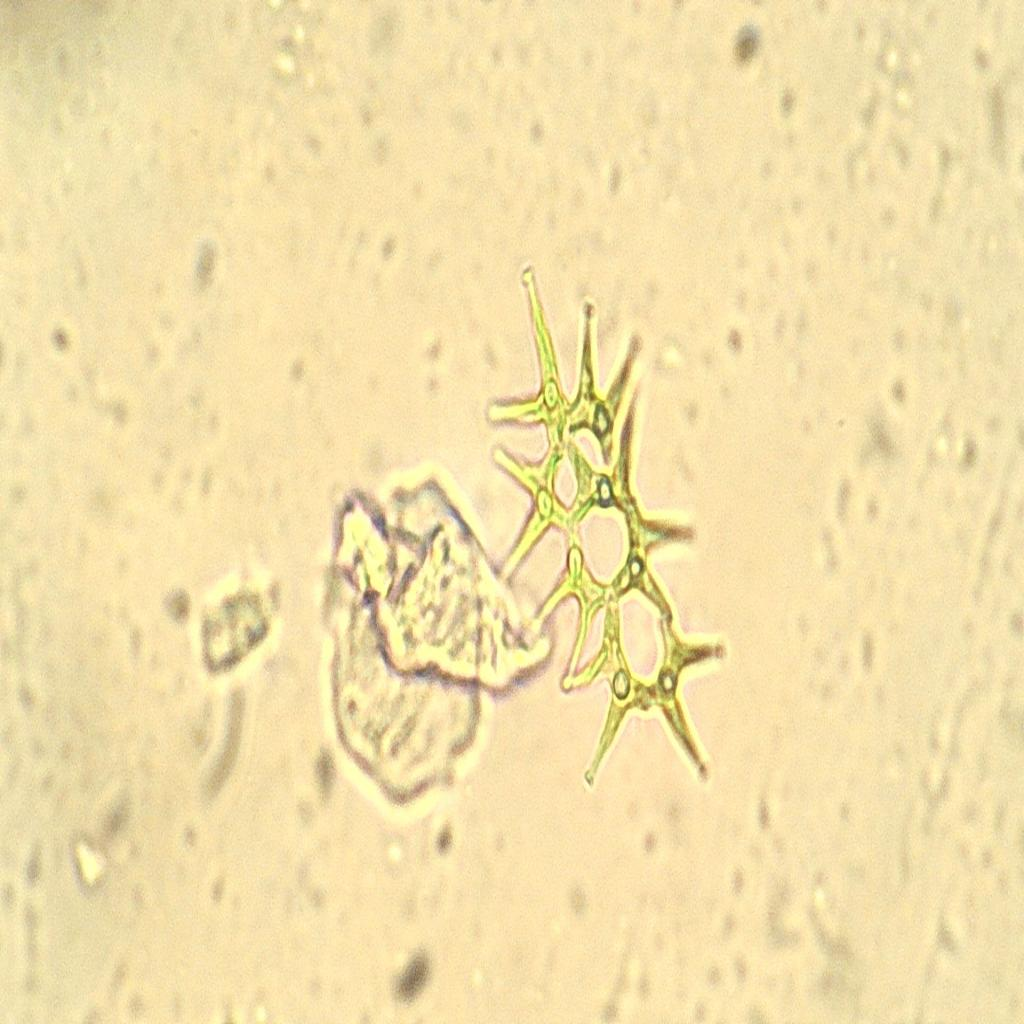Pediastrum_CFI: (479, 250, 742, 811)
